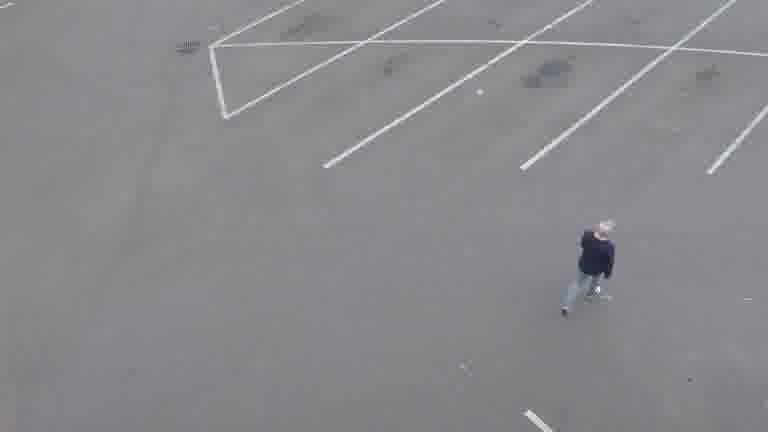cycle: (561, 217, 619, 320)
